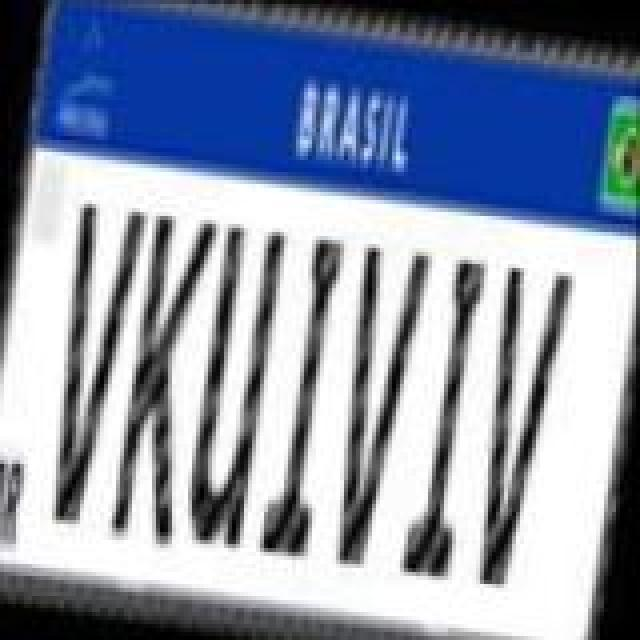I: (256, 226, 352, 562), (394, 248, 490, 580)
K: (108, 204, 220, 552)
U: (180, 216, 284, 552)
V: (456, 256, 572, 596), (34, 192, 150, 528), (314, 236, 430, 572)
